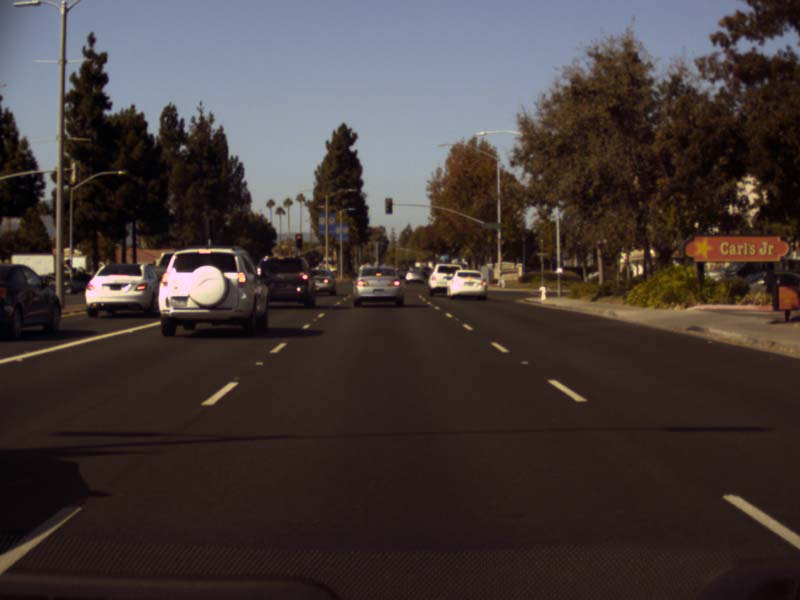Red: (500, 237, 507, 253), (296, 235, 301, 247)
